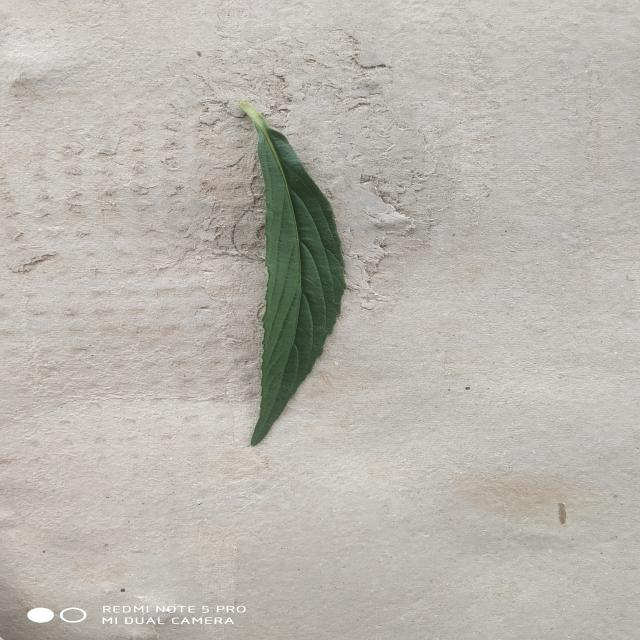thambe: (238, 101, 344, 445)
